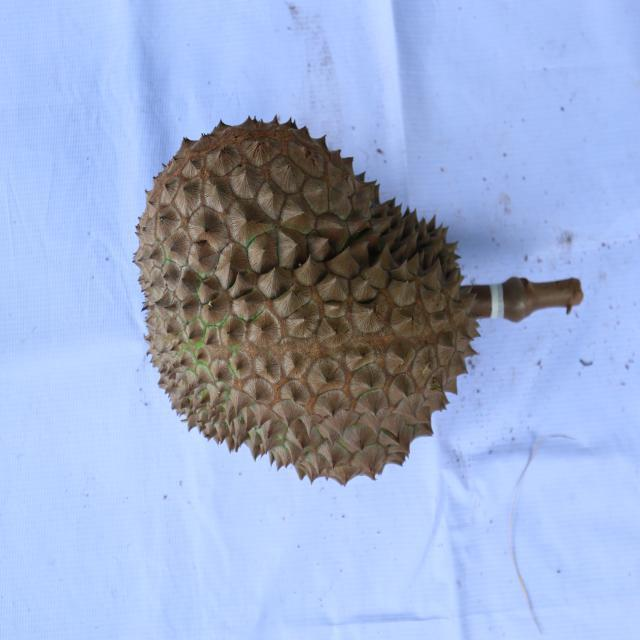mature: (129, 107, 481, 492)
